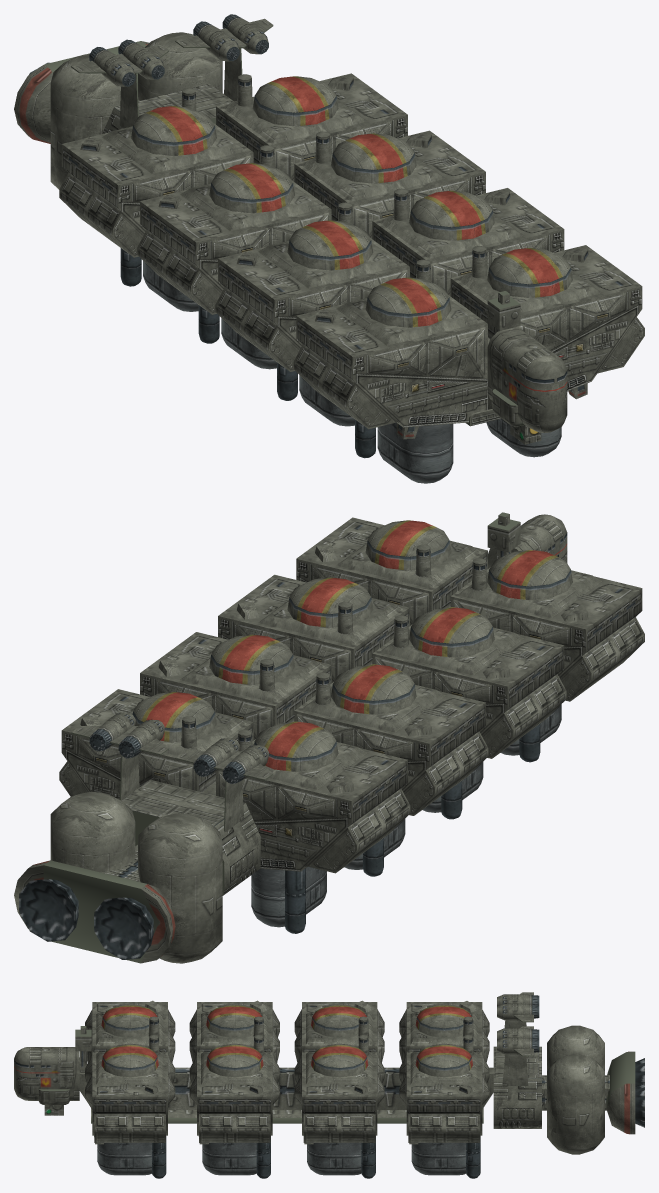
File: Refinery Ship.fbx
3 views of the same model, one above another, from view 1: azimuth 30°, elevation 25°; view 2: azimuth 150°, elevation 25°; view 3: azimuth 270°, elevation 25° (orthographic). The views are drawn at different scales.
Visible parts, largest first — view 1: colrefn1co_1_1; view 2: colrefn1co_1_1; view 3: colrefn1co_1_1.
Part boxes in pixels (bbox=[...]): colrefn1co_1_1: bbox=[14, 14, 644, 483]; colrefn1co_1_1: bbox=[14, 512, 644, 963]; colrefn1co_1_1: bbox=[14, 992, 644, 1178].
Size of the model in its own units: 165 by 452 by 109.
2 materials, 1 textured.
